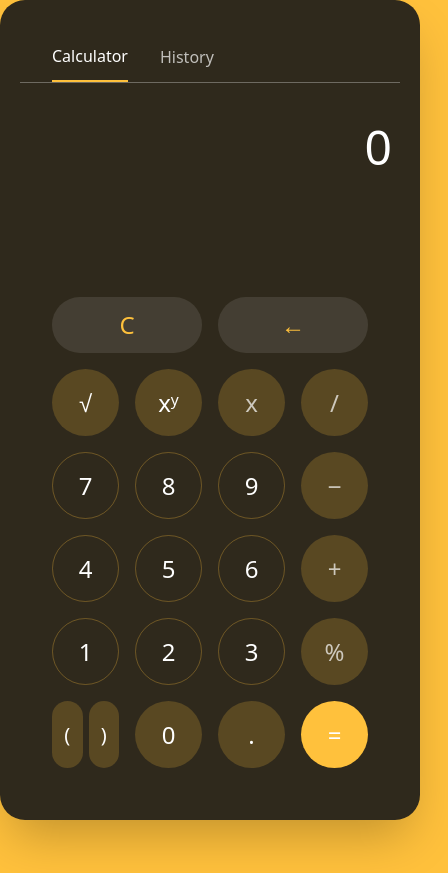
Test: Calculator › añade sqrt( al pulsar la raíz cuadrada
What coordinates should you click on to do the following:
click the button "2"
I would click on:
 (168, 652)
Its box is [135, 618, 202, 685].
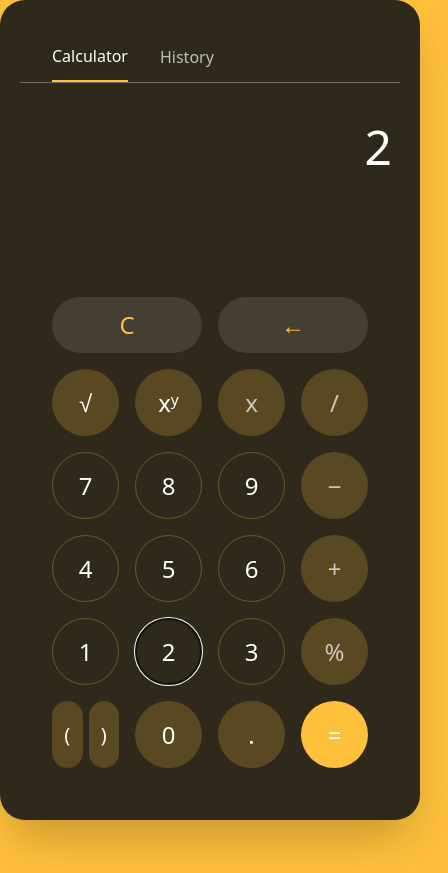
What coordinates should you click on to do the following:
click the button "5"
I would click on:
 (168, 568)
Its box is [135, 535, 202, 602].
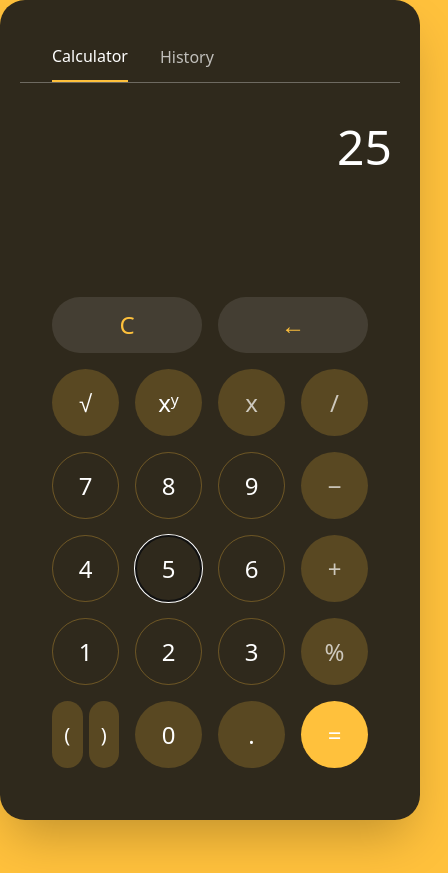
What coordinates should you click on to do the following:
click the button named "Raíz cuadrada"
I would click on:
 (86, 402)
Its box is [52, 369, 119, 436].
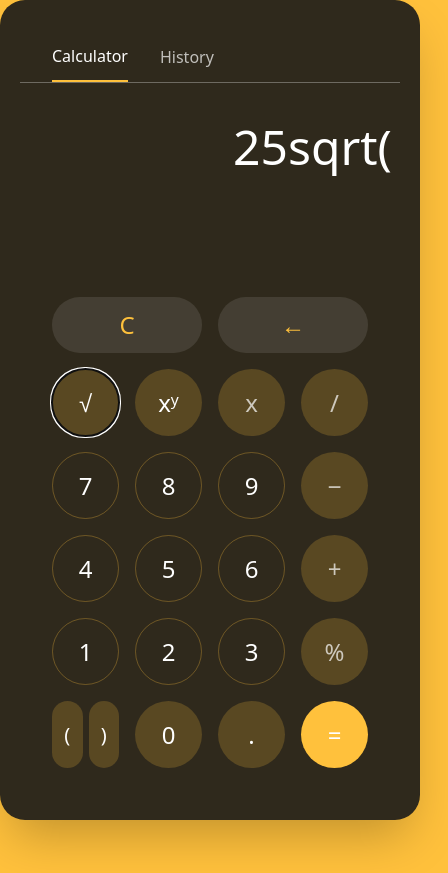
Now the text named "Expresión" reads "25sqrt(", box [233, 114, 392, 179]
